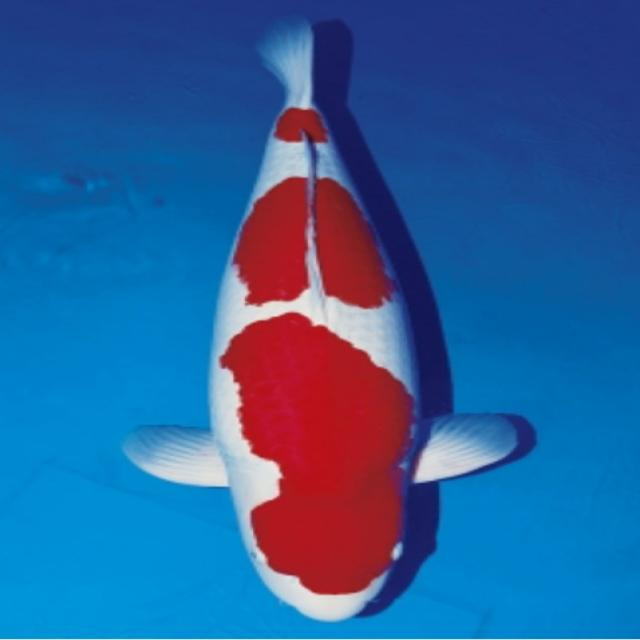Kohaku: (120, 15, 536, 621)
